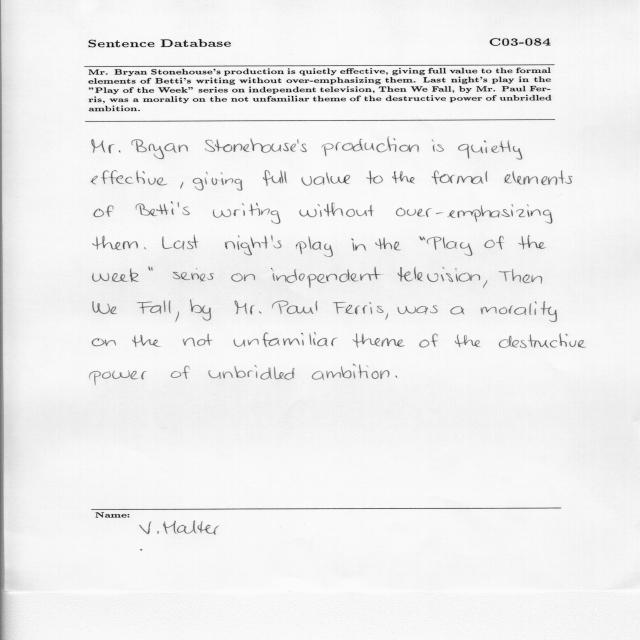word: (396, 204, 552, 224), (271, 267, 382, 288), (322, 137, 419, 156), (481, 301, 557, 322), (205, 138, 307, 153), (234, 333, 338, 347), (213, 203, 280, 224), (312, 363, 389, 380), (499, 333, 586, 348), (209, 365, 295, 380), (458, 140, 522, 160), (398, 267, 480, 282), (131, 139, 188, 159), (91, 171, 167, 186), (225, 236, 282, 256), (299, 203, 374, 217), (504, 170, 573, 185), (193, 172, 243, 191), (427, 237, 473, 256), (89, 370, 147, 385), (353, 333, 405, 348), (296, 236, 333, 257), (432, 171, 487, 185), (136, 202, 190, 216), (302, 172, 350, 186), (499, 269, 542, 284), (93, 268, 139, 282), (93, 236, 138, 250), (333, 302, 384, 314), (272, 301, 317, 314), (173, 268, 214, 282), (162, 235, 199, 250), (137, 300, 171, 314), (190, 300, 211, 321), (92, 139, 121, 153), (518, 235, 546, 249), (183, 334, 213, 347), (263, 170, 287, 186), (235, 301, 262, 315), (398, 306, 438, 315), (375, 238, 401, 251), (132, 335, 160, 347), (455, 335, 480, 348), (93, 301, 117, 314), (392, 171, 415, 183), (419, 334, 438, 348), (484, 236, 504, 249), (94, 205, 114, 217), (171, 366, 189, 379), (366, 171, 383, 184), (231, 273, 255, 282), (351, 238, 366, 251), (92, 338, 116, 346), (432, 139, 444, 152), (451, 306, 465, 315), (175, 311, 179, 322), (483, 280, 487, 288), (420, 236, 426, 240), (181, 182, 184, 189), (385, 313, 388, 320), (148, 267, 153, 271), (396, 375, 398, 378), (144, 247, 146, 249)
